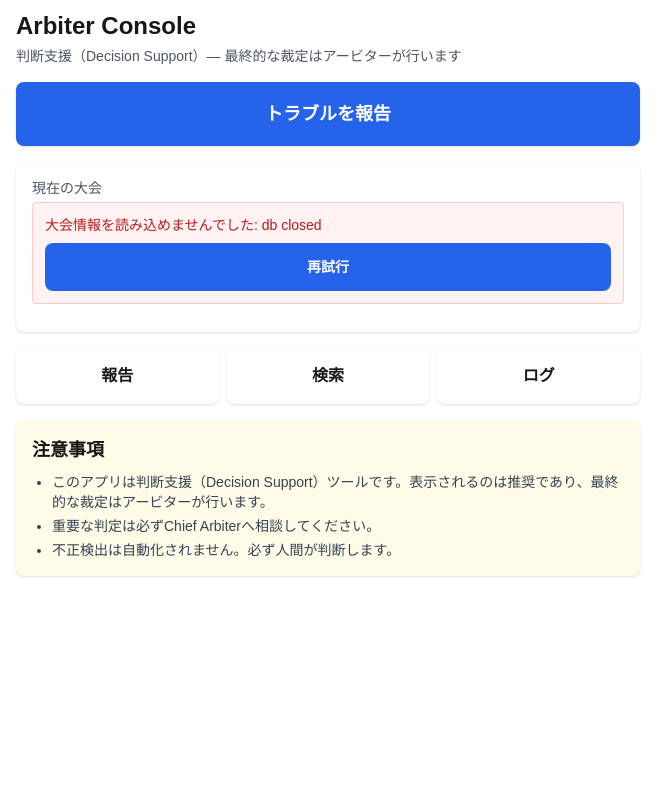
Scenario: Home page › shows a load error with retry
Expected: the message shows "db closed", [262,217,322,233]
Click the button "再試行": coordinates (328, 267) [45,243,611,291]
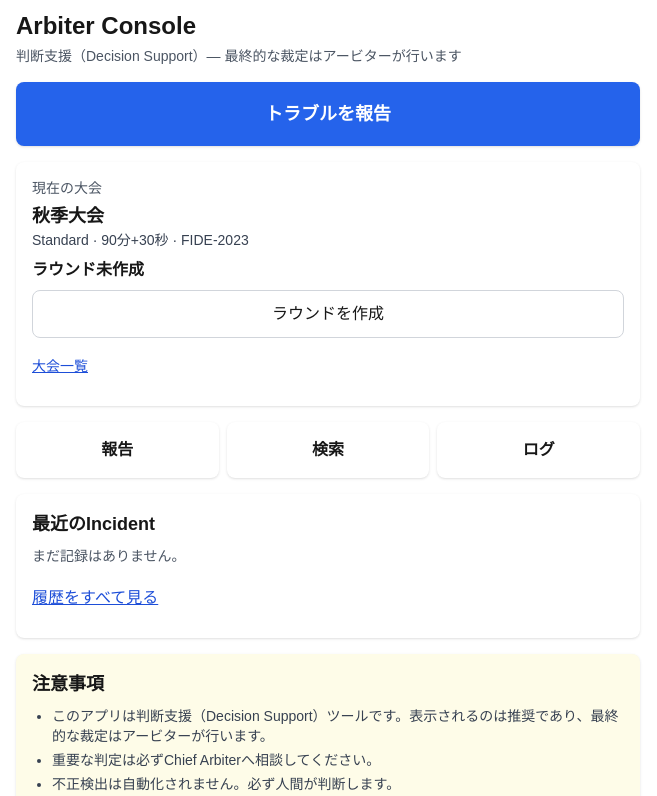
Now the text "秋季大会" is shown, box [32,206,104,226]
